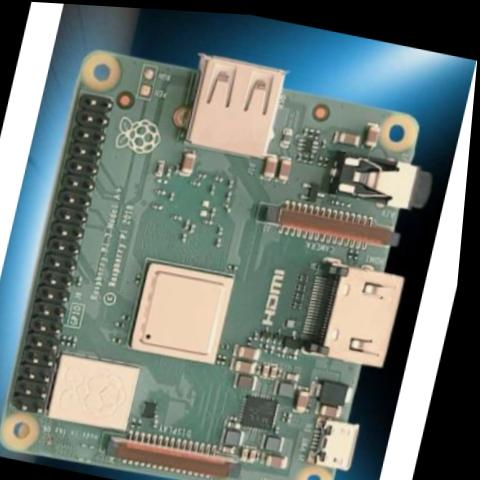Raspberry-Pi-3-Model-A-: (0, 15, 465, 480)
